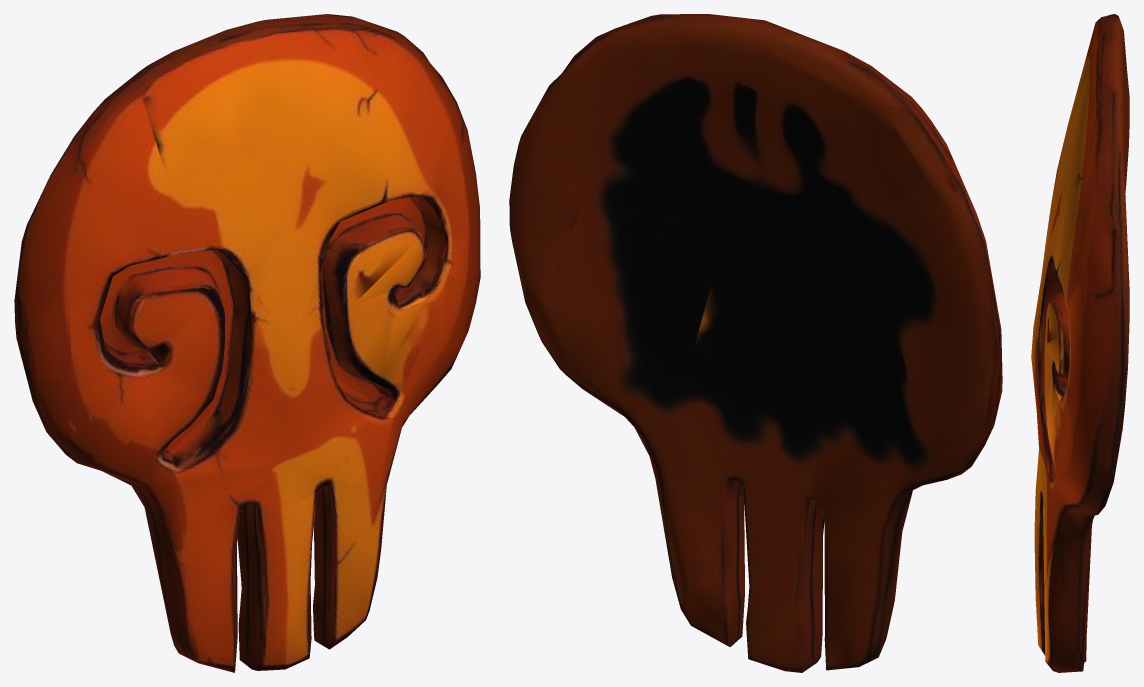
File: mascara_mictlan.glb
3 views of the same model, side by side, from view 1: azimuth 30°, elevation 25°; view 2: azimuth 150°, elevation 25°; view 3: azimuth 270°, elevation 25° (orthographic). The views are drawn at different scales.
Parts seen in each view (by area): view 1: mascara_mictlan_low; view 2: mascara_mictlan_low; view 3: mascara_mictlan_low.
Part boxes in pixels (x1,y1,x2,y2): mascara_mictlan_low: [14, 14, 480, 672]; mascara_mictlan_low: [509, 14, 1002, 672]; mascara_mictlan_low: [1031, 14, 1129, 672].
Bounding box in the file's own units: 0.8685 × 1.12 × 0.1636.
Materials: 1 (1 with a texture image).
